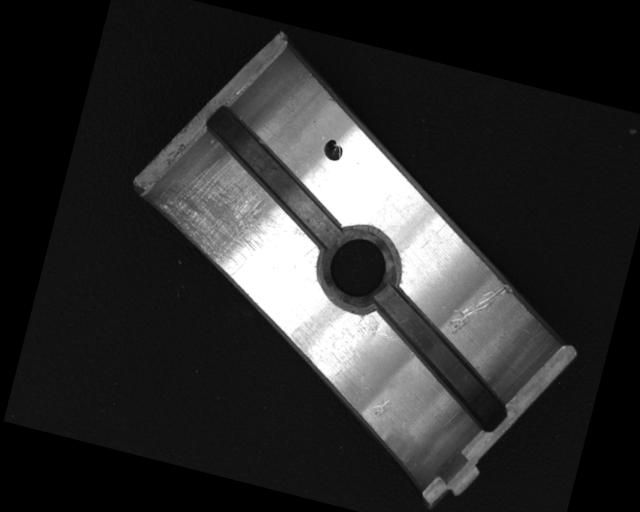blot: (320, 136, 345, 162)
bruise: (368, 393, 392, 419)
gap: (352, 285, 531, 435), (184, 105, 361, 249)
hole: (310, 219, 409, 320)
nick: (444, 270, 513, 346)
scratch: (141, 142, 317, 295)
